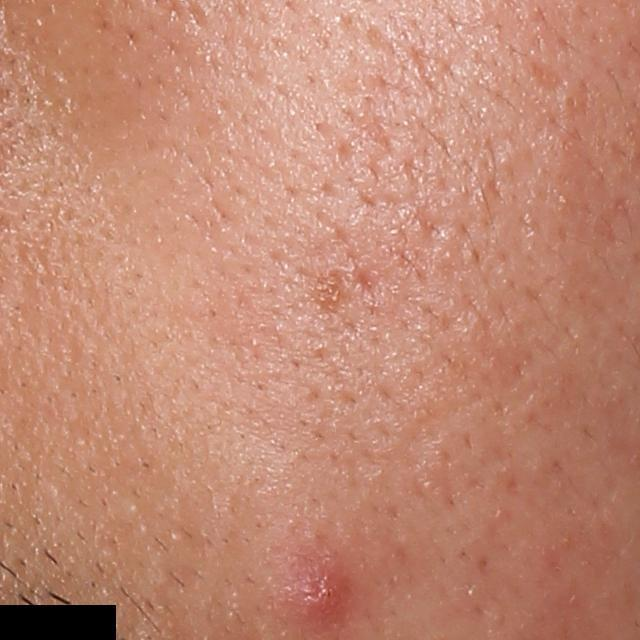atrophic_scar: (521, 54, 567, 97), (354, 265, 384, 299)
papule: (269, 552, 360, 634)
